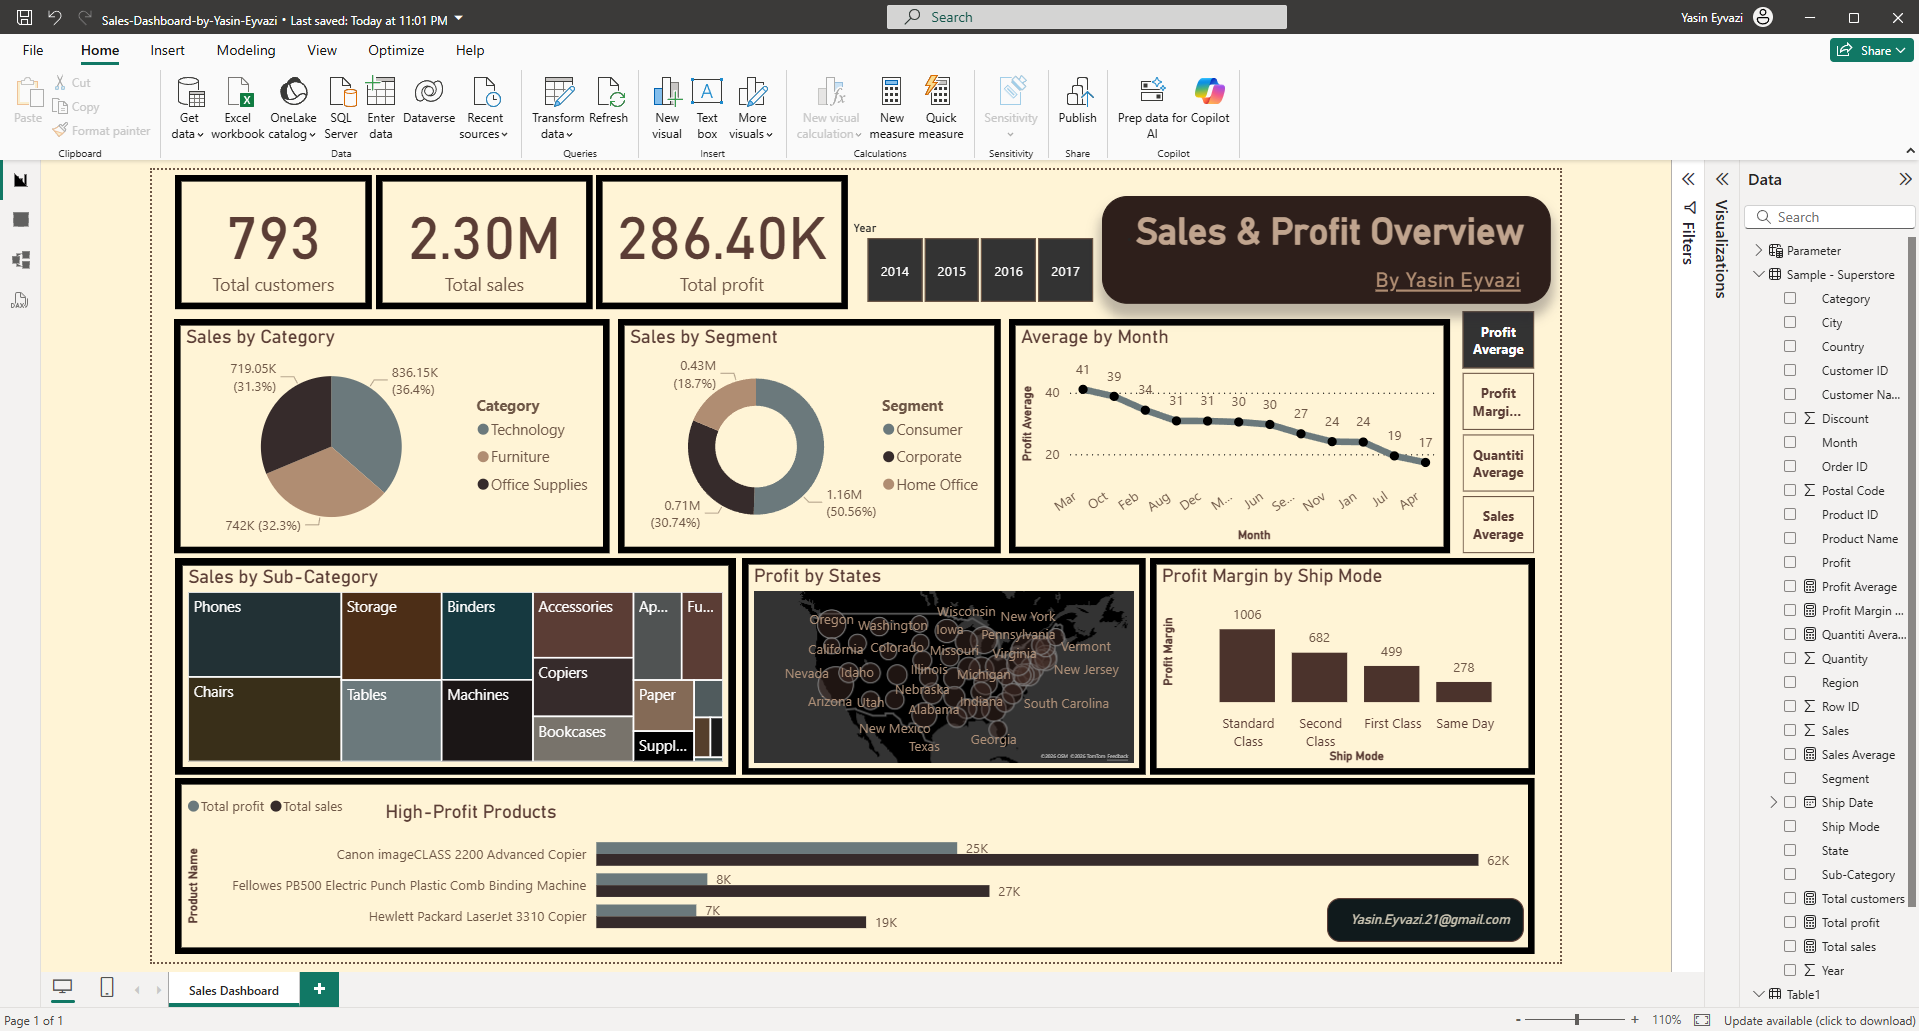

The page's visual inventory and layout, read from the dashboard file:
{"tool":"powerbi","page":{"name":"Sales Dashboard","canvas":[1280,720],"ordinal":0},"visuals":[{"type":"pieChart","title":"Sales by Category","fields":{"Category":["Sample - Superstore.Category"],"Y":["Sample - Superstore.Total sales"]},"box":[20,135,396,213],"z":0},{"type":"slicer","fields":{"Values":["Sample - Superstore.Year"]},"box":[624.8,40.6,254.9,85.7],"z":1000},{"type":"azureMap","title":"Profit by States","fields":{"Category":["Sample - Superstore.State","Sample - Superstore.City"],"Size":["Sum(Table1.Profit)"]},"box":[536,353,367,197],"z":2000},{"type":"card","fields":{"Values":["Sample - Superstore.Total customers"]},"box":[21,5,178.9,121.9],"z":3000},{"type":"card","fields":{"Values":["Sample - Superstore.Total sales"]},"box":[203.8,5,196.8,121.9],"z":4000},{"type":"donutChart","title":" Sales by Segment","fields":{"Category":["Sample - Superstore.Segment"],"Y":["Sample - Superstore.Total sales"]},"box":[424,135,348,213],"z":5000},{"type":"clusteredBarChart","title":"High-Profit Products","fields":{"Category":["Sample - Superstore.Product Name"],"Y":["Sample - Superstore.Total profit","Sample - Superstore.Total sales"]},"box":[21,553,1236,160],"z":6000},{"type":"slicer","fields":{"Values":["Parameter.Parameter"]},"box":[1165,106,115,259],"z":7000},{"type":"lineChart","title":"Average by Month","fields":{"Y":["Sample - Superstore.Profit Average"],"Category":["Sample - Superstore.Month"]},"box":[779,135,401,213],"z":8000},{"type":"clusteredColumnChart","title":" Profit Margin by Ship Mode","fields":{"Category":["Sample - Superstore.Ship Mode"],"Y":["Sum(Table1.Profit Margin)"]},"box":[907,353,350,197],"z":9000},{"type":"card","fields":{"Values":["Sample - Superstore.Total profit"]},"box":[403.7,5,228.8,121.9],"z":10000},{"type":"textbox","box":[863.9,23.7,408.2,98.1],"z":11000},{"type":"textbox","box":[1107.5,83.5,145.5,86.8],"z":12000},{"type":"textbox","box":[207.2,568,242.2,33.1],"z":13000},{"type":"treemap","title":"Sales by Sub-Category","fields":{"Group":["Sample - Superstore.Sub-Category"],"Values":["Sample - Superstore.Total sales"]},"box":[21,353,510,197],"z":14000},{"type":"textbox","box":[1068.2,661.8,179.1,40],"z":16001}]}

Visuals, with their boxes on the page's 1280x720 design canvas (x1, y1, x2, y2). These are canvas units, not pixel positions in the 1919x1031 screenshot, which may show the page scaled, cropped or inside an application window:
"Sales by Category" pieChart: crop(20, 135, 416, 348)
slicer - Sample - Superstore.Year: crop(625, 41, 880, 126)
"Profit by States" azureMap: crop(536, 353, 903, 550)
card - Sample - Superstore.Total customers: crop(21, 5, 200, 127)
card - Sample - Superstore.Total sales: crop(204, 5, 401, 127)
" Sales by Segment" donutChart: crop(424, 135, 772, 348)
"High-Profit Products" clusteredBarChart: crop(21, 553, 1257, 713)
slicer - Parameter.Parameter: crop(1165, 106, 1280, 365)
"Average by Month" lineChart: crop(779, 135, 1180, 348)
" Profit Margin by Ship Mode" clusteredColumnChart: crop(907, 353, 1257, 550)
card - Sample - Superstore.Total profit: crop(404, 5, 632, 127)
textbox: crop(864, 24, 1272, 122)
textbox: crop(1108, 84, 1253, 170)
textbox: crop(207, 568, 449, 601)
"Sales by Sub-Category" treemap: crop(21, 353, 531, 550)
textbox: crop(1068, 662, 1247, 702)
